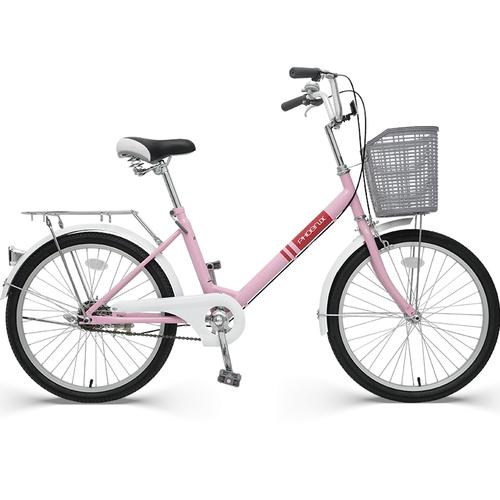单车: (1, 58, 500, 418)
